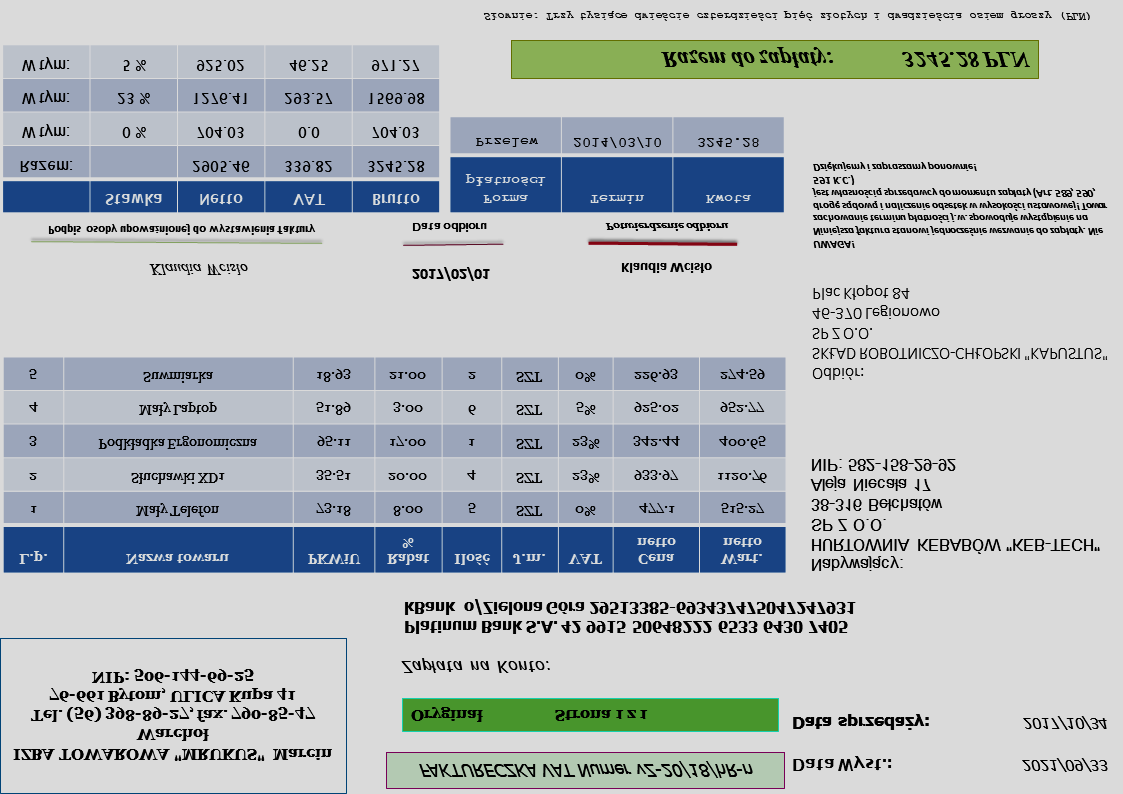Table: (2, 355, 787, 575), (1, 43, 439, 214), (448, 115, 786, 215)
TextBox: (809, 455, 1104, 575), (10, 664, 333, 766), (810, 282, 1111, 383), (809, 158, 1111, 253), (400, 598, 857, 637), (659, 44, 1031, 72), (480, 9, 1094, 24), (415, 759, 757, 782), (408, 704, 650, 728), (46, 221, 319, 238), (399, 655, 553, 679), (788, 710, 933, 735), (791, 753, 895, 776), (146, 260, 250, 281), (1019, 754, 1109, 777), (603, 219, 731, 235), (1020, 714, 1109, 735), (408, 264, 493, 284), (617, 259, 713, 276), (409, 220, 487, 235)
